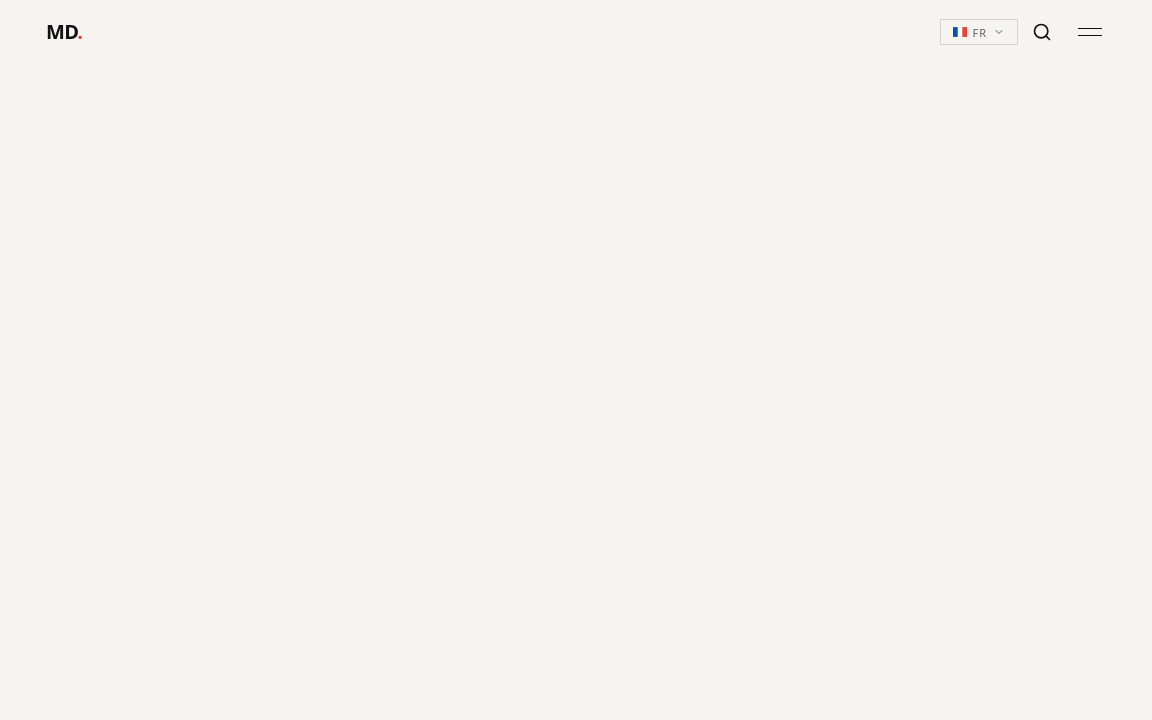
Test: Header › toggles the mobile menu and closes it with Escape
This screenshot has width=1152, height=720.
Click the button named "Ouvrir le menu" at coordinates (1090, 32), box [1066,8,1114,56]
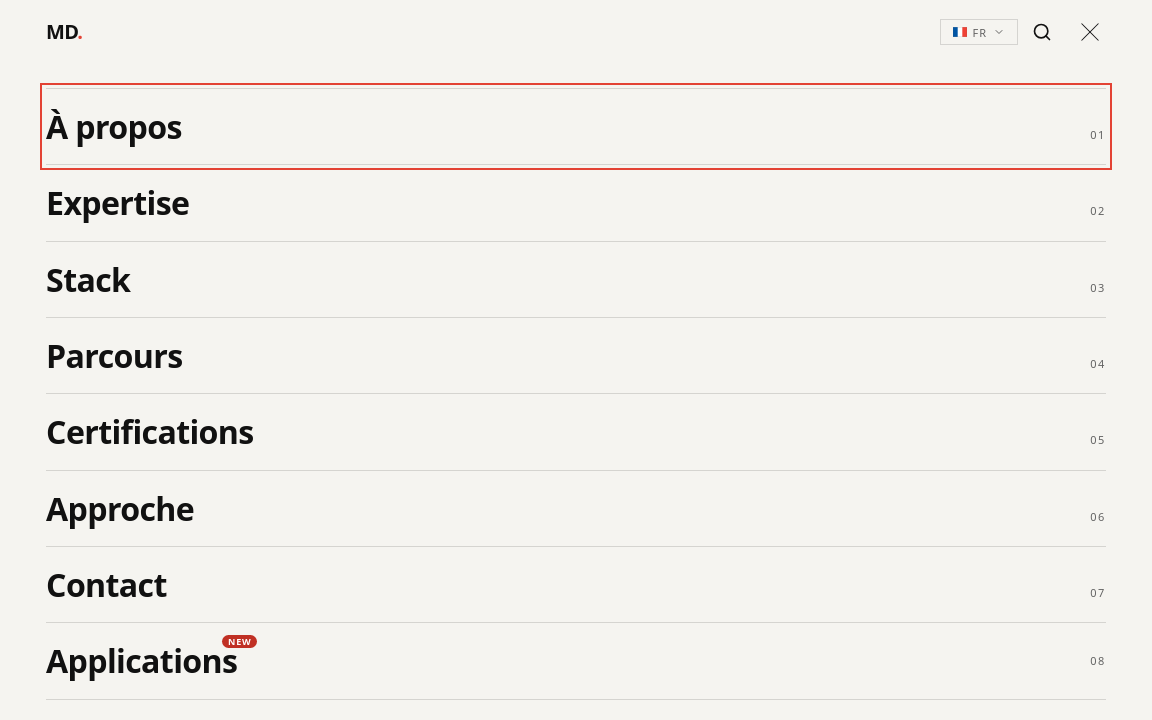
Expected: the button named "Ouvrir le menu" is expanded, [1066,8,1114,56]
Press Escape
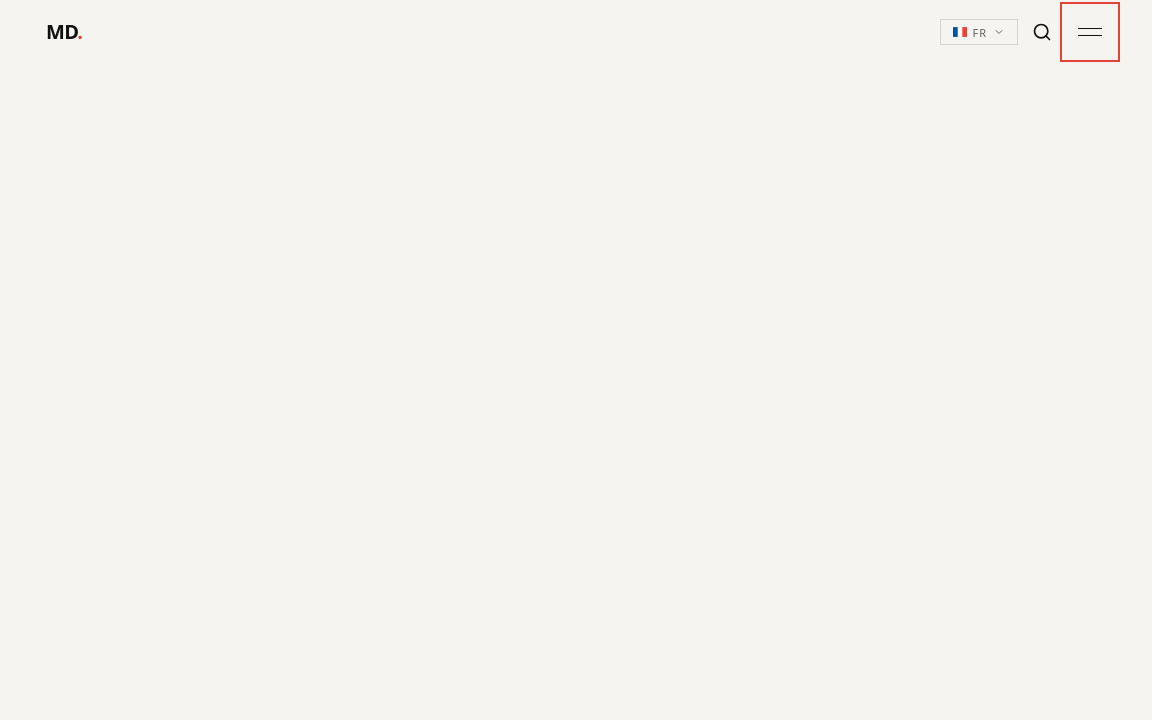
Expected: the button named "Ouvrir le menu" is collapsed, [1066,8,1114,56]
